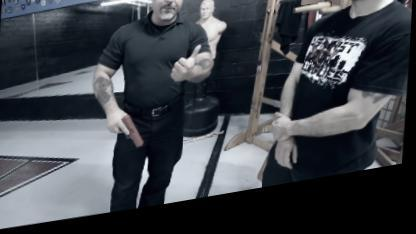pistol: (117, 116, 147, 156)
